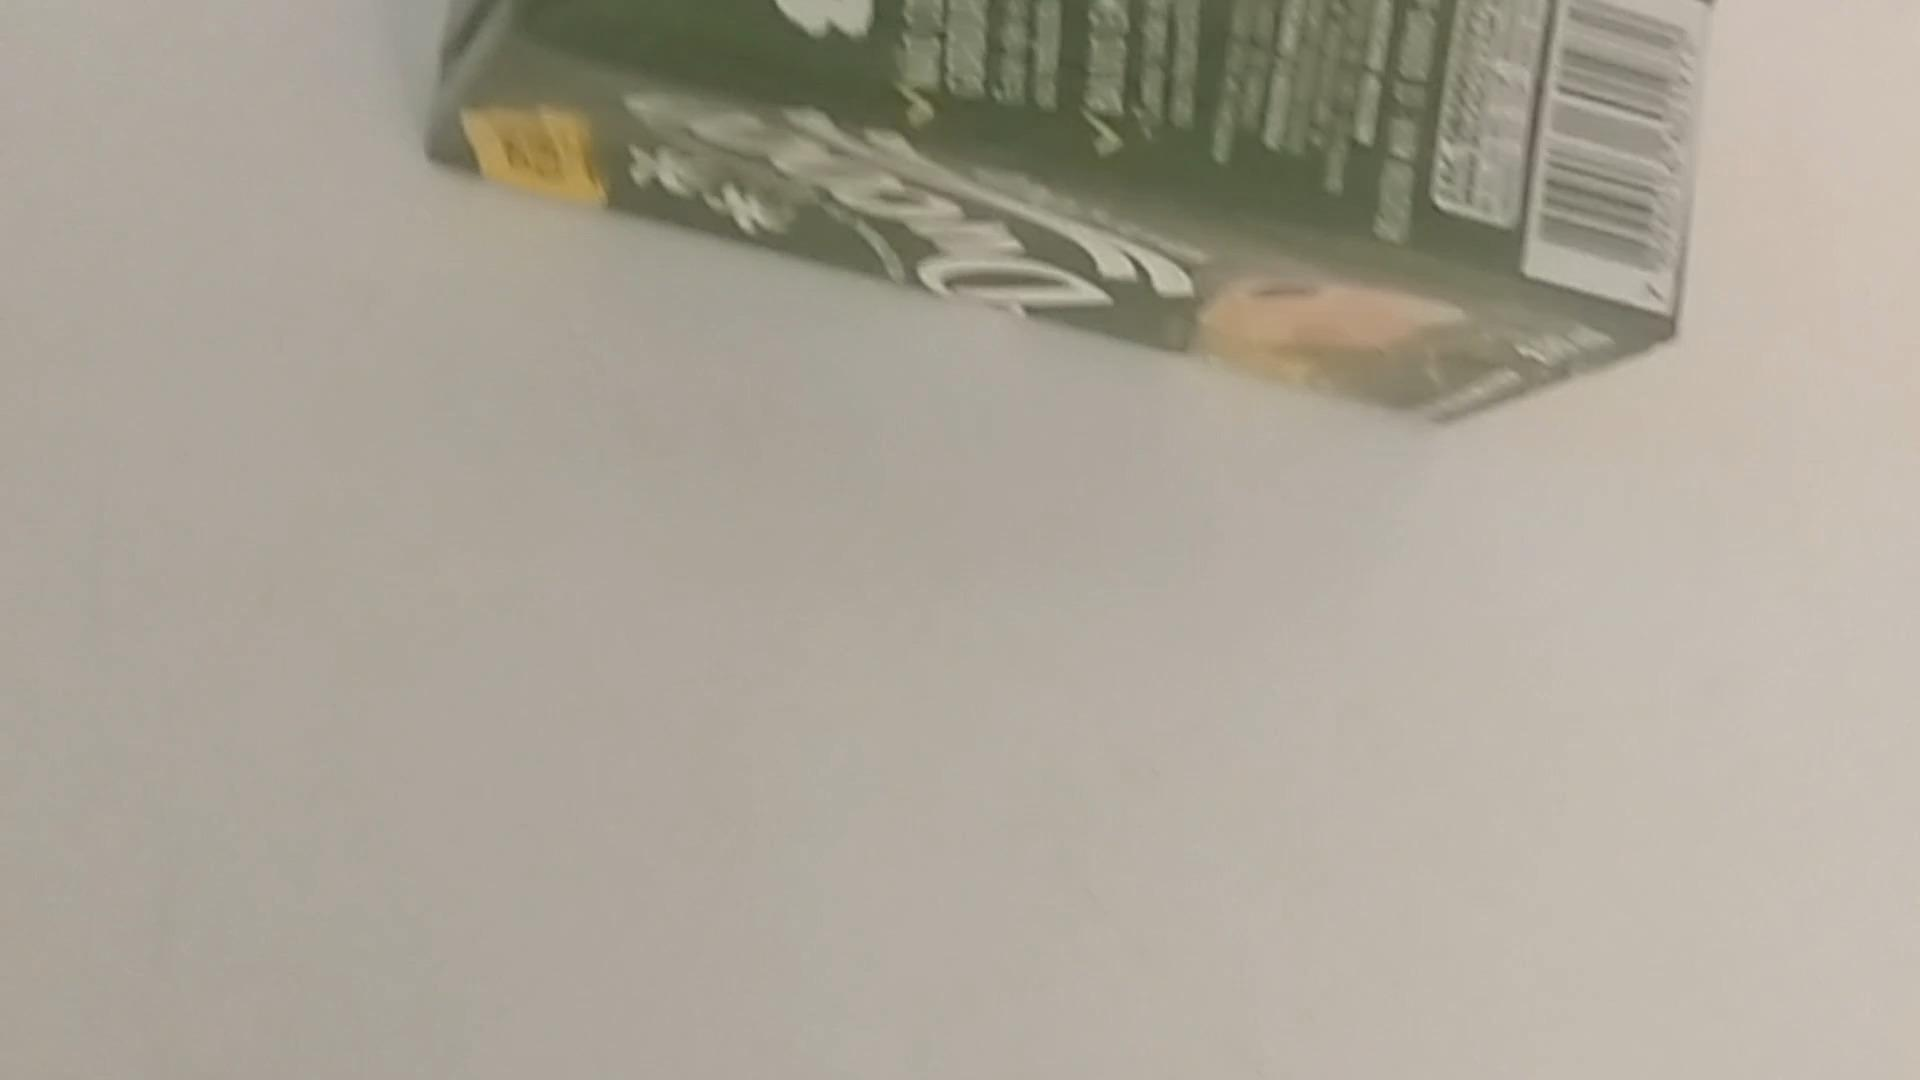coco: (413, 0, 1705, 447)
